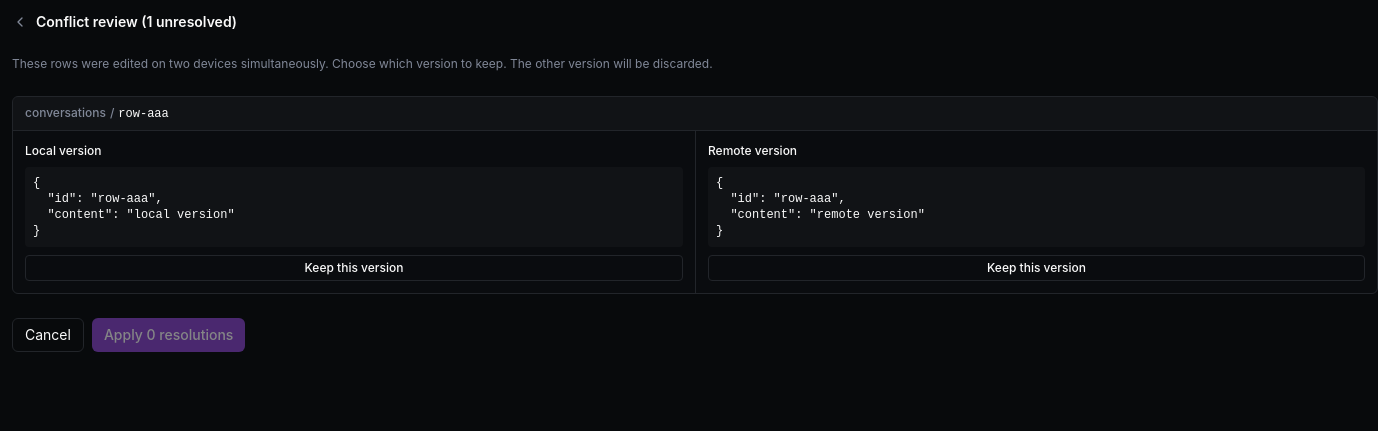
Test: ConflictReview › shows error when rpc fails
The width and height of the screenshot is (1378, 431).
Click the button with test id "keep-remote-c-1" at (1036, 268), box 708,255 -> 1365,281
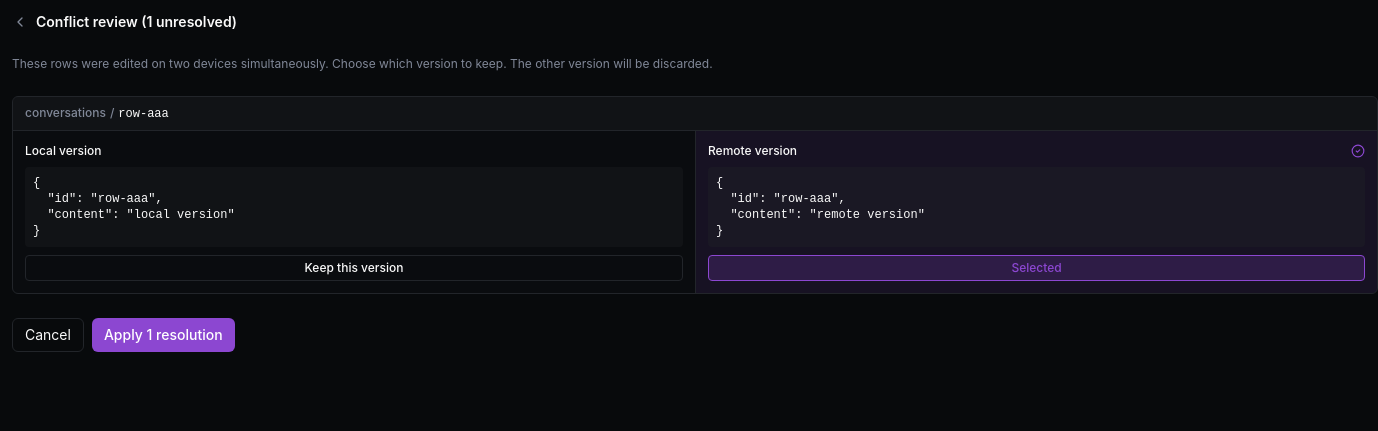
Click the button with test id "apply-resolutions-btn" at (163, 335), box 92,318 -> 235,352
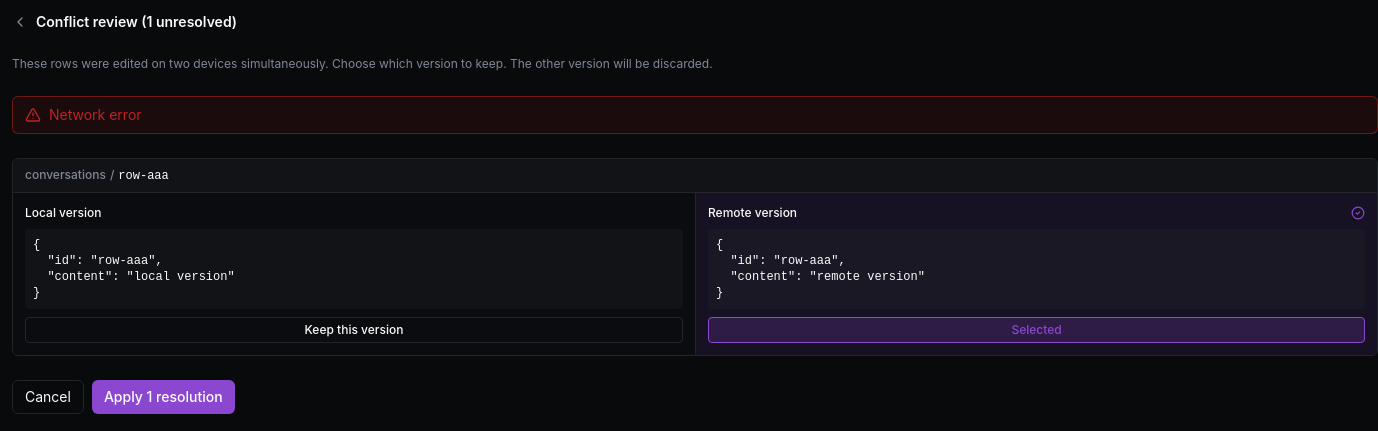
Now the text "Network error" is shown, box 12,96 -> 1377,134
